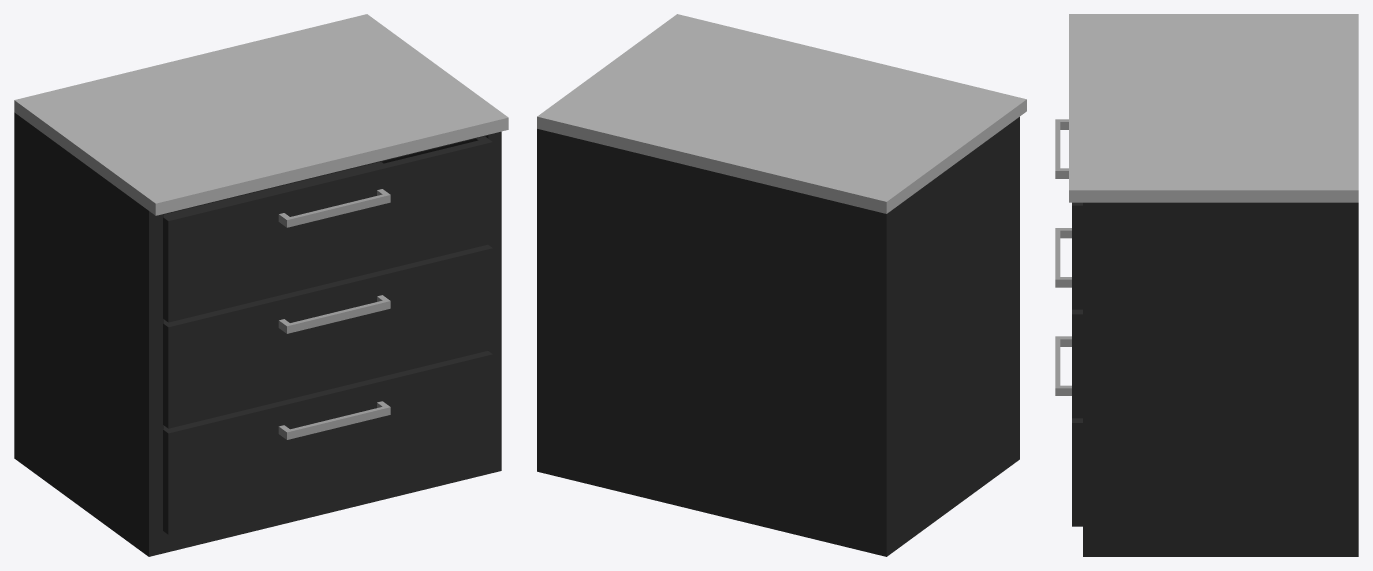
Rendered from KitchenCounter_03.fbx.
The picture shows the model from 3 angles, left to right: view 1: azimuth 30°, elevation 25°; view 2: azimuth 150°, elevation 25°; view 3: azimuth 270°, elevation 25°; orthographic projection. The views are drawn at different scales.
Visible parts, largest first — view 1: KitchenCounter_03, KitchenCounter_03_Drawer_Top, KitchenCounter_03_Drawer_Bottom, KitchenCounter_03_Drawer_Middle; view 2: KitchenCounter_03; view 3: KitchenCounter_03, KitchenCounter_03_Drawer_Middle, KitchenCounter_03_Drawer_Bottom, KitchenCounter_03_Drawer_Top.
Part boxes in pixels (x1,y1,x2,y2): KitchenCounter_03: [14, 14, 508, 556]; KitchenCounter_03_Drawer_Top: [163, 136, 492, 322]; KitchenCounter_03_Drawer_Bottom: [163, 351, 492, 534]; KitchenCounter_03_Drawer_Middle: [163, 244, 492, 428]; KitchenCounter_03: [537, 14, 1026, 556]; KitchenCounter_03: [1069, 14, 1358, 556]; KitchenCounter_03_Drawer_Middle: [1055, 228, 1082, 418]; KitchenCounter_03_Drawer_Bottom: [1055, 336, 1082, 526]; KitchenCounter_03_Drawer_Top: [1055, 119, 1082, 309].
Size of the model in its own units: 1 by 0.9704 by 0.7271.
